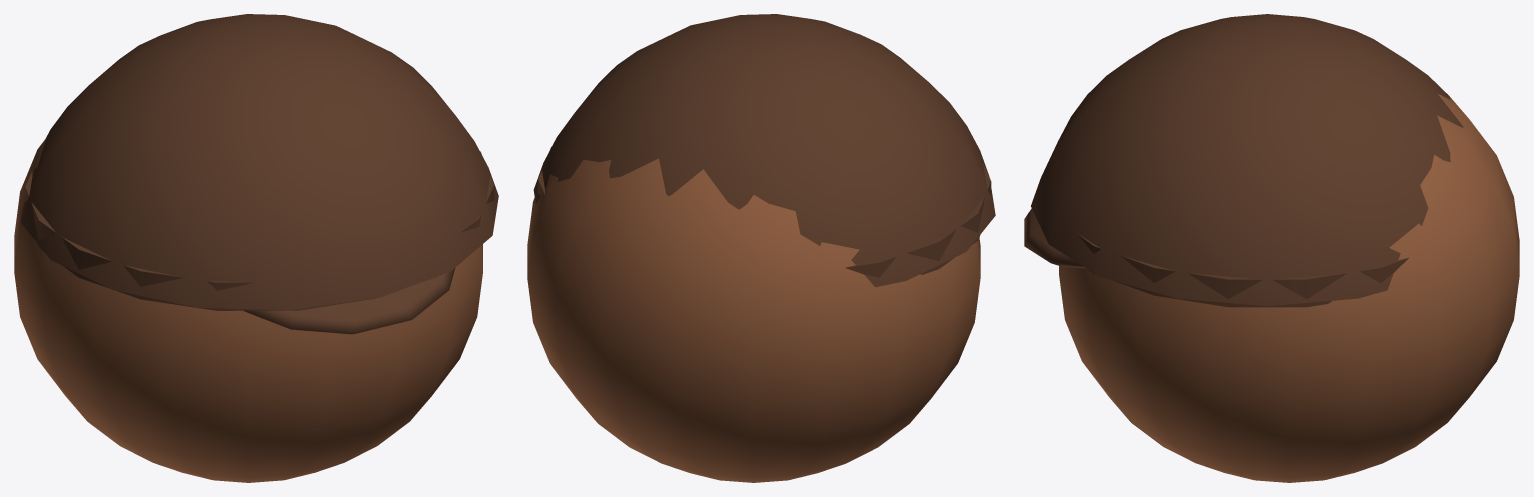
File: hair_cap.glb
3 renders of one model, left to right at view 1: azimuth 30°, elevation 25°; view 2: azimuth 150°, elevation 25°; view 3: azimuth 270°, elevation 25°, orthographic. The views are drawn at different scales.
Parts seen in each view (by area): view 1: Hair; view 2: Hair; view 3: Hair.
Part boxes in pixels (x1,y1,x2,y2): Hair: [14, 14, 498, 482]; Hair: [527, 14, 995, 482]; Hair: [1024, 14, 1519, 482].
Bounding box in the file's own units: 13.45 × 13.28 × 14.07.
